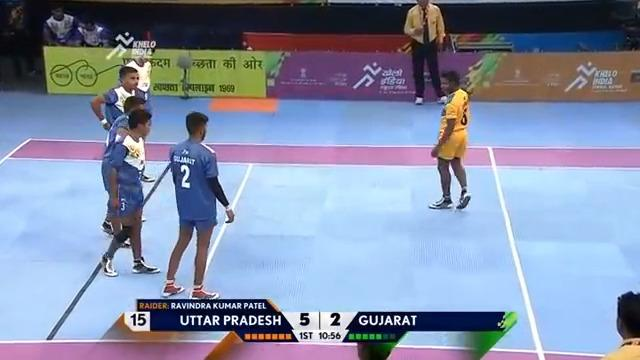Player: (160, 110, 235, 299), (89, 65, 148, 237), (100, 108, 160, 276), (599, 290, 639, 359)
Raider: (427, 69, 473, 209)
referee: (401, 0, 448, 105)
